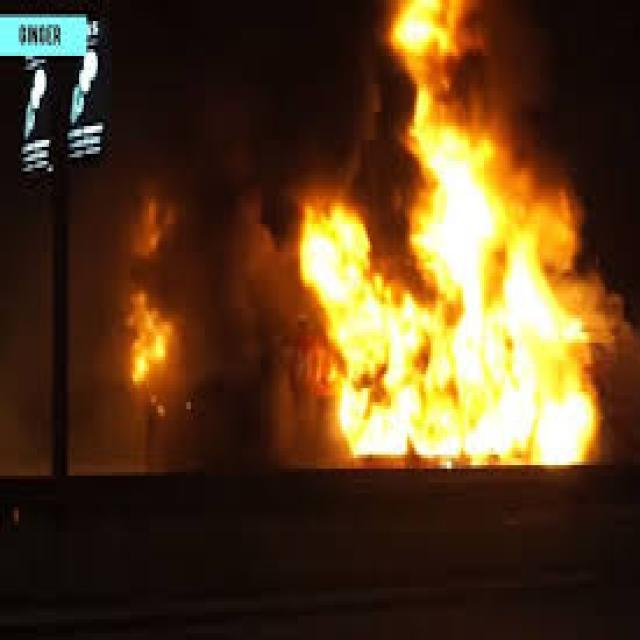Fire: (314, 68, 603, 450)
